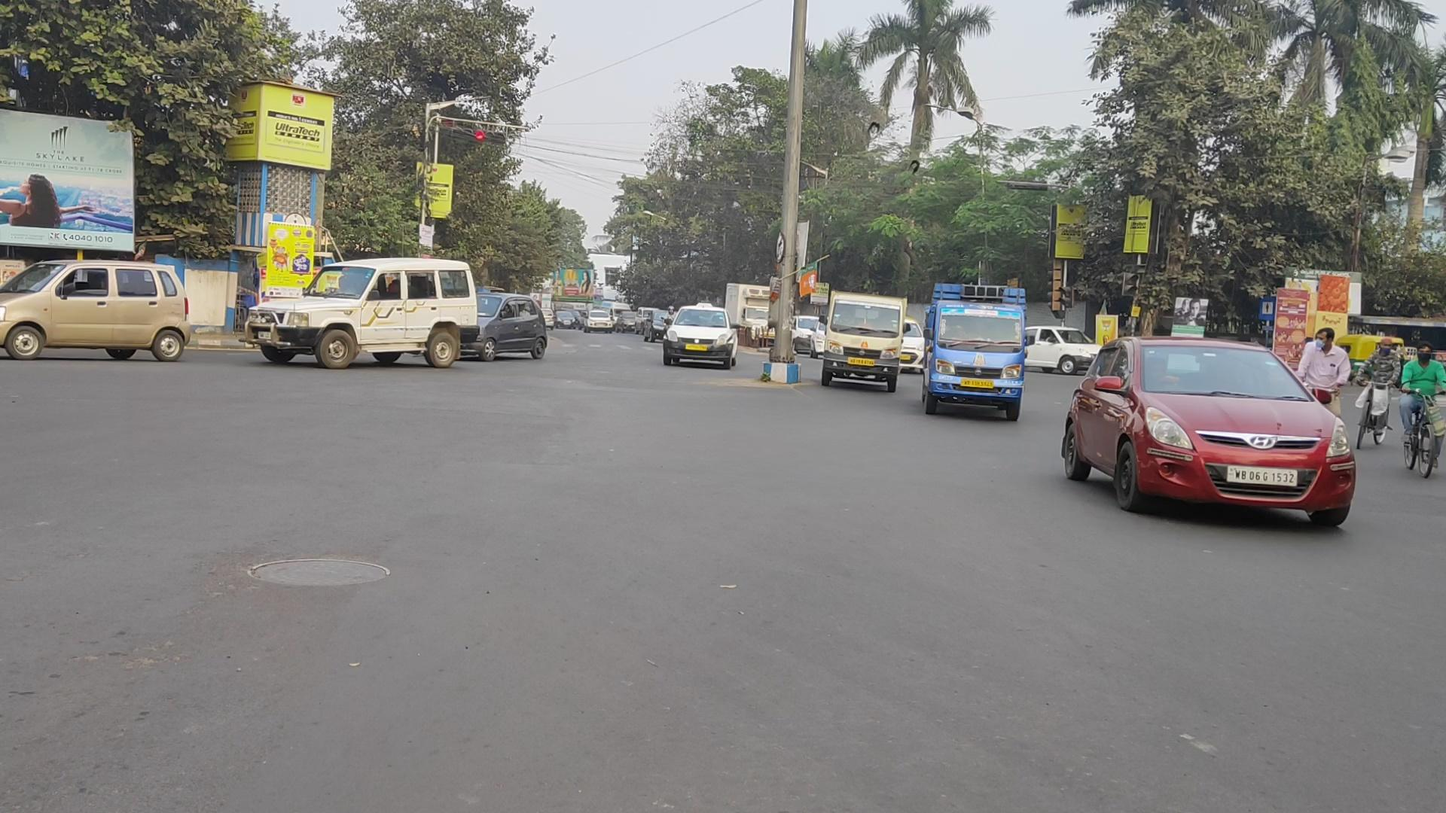bike: (1296, 329, 1350, 451), (1400, 342, 1446, 479), (1353, 337, 1400, 452)
car: (1063, 336, 1356, 528), (240, 258, 481, 369), (1, 258, 192, 362), (461, 292, 548, 361), (662, 301, 738, 370), (1024, 325, 1106, 375)
van: (922, 283, 1027, 421), (821, 287, 907, 394), (725, 280, 794, 349)
